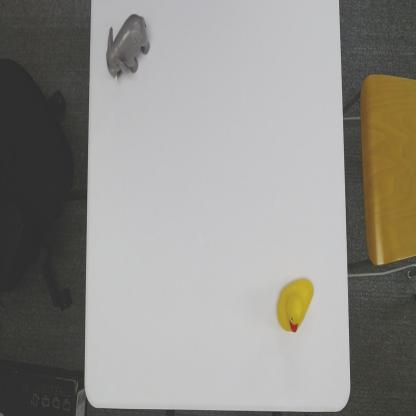Duck: (276, 274, 314, 336)
Elephant: (104, 11, 151, 82)
